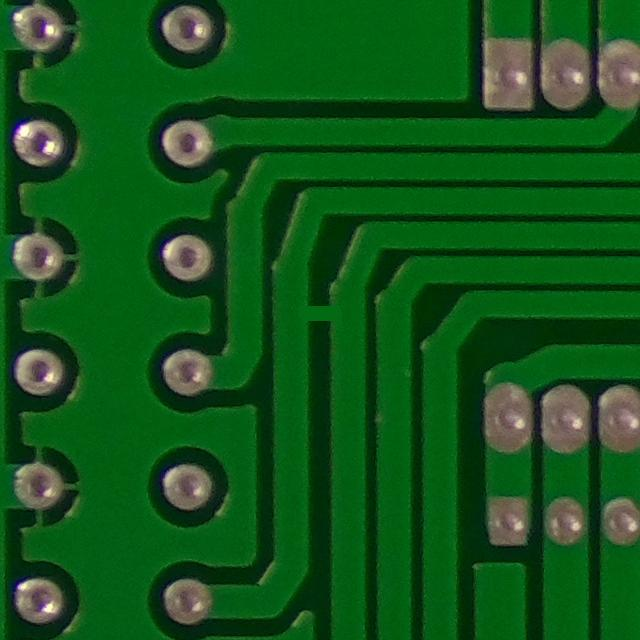short: (266, 276, 374, 365)
